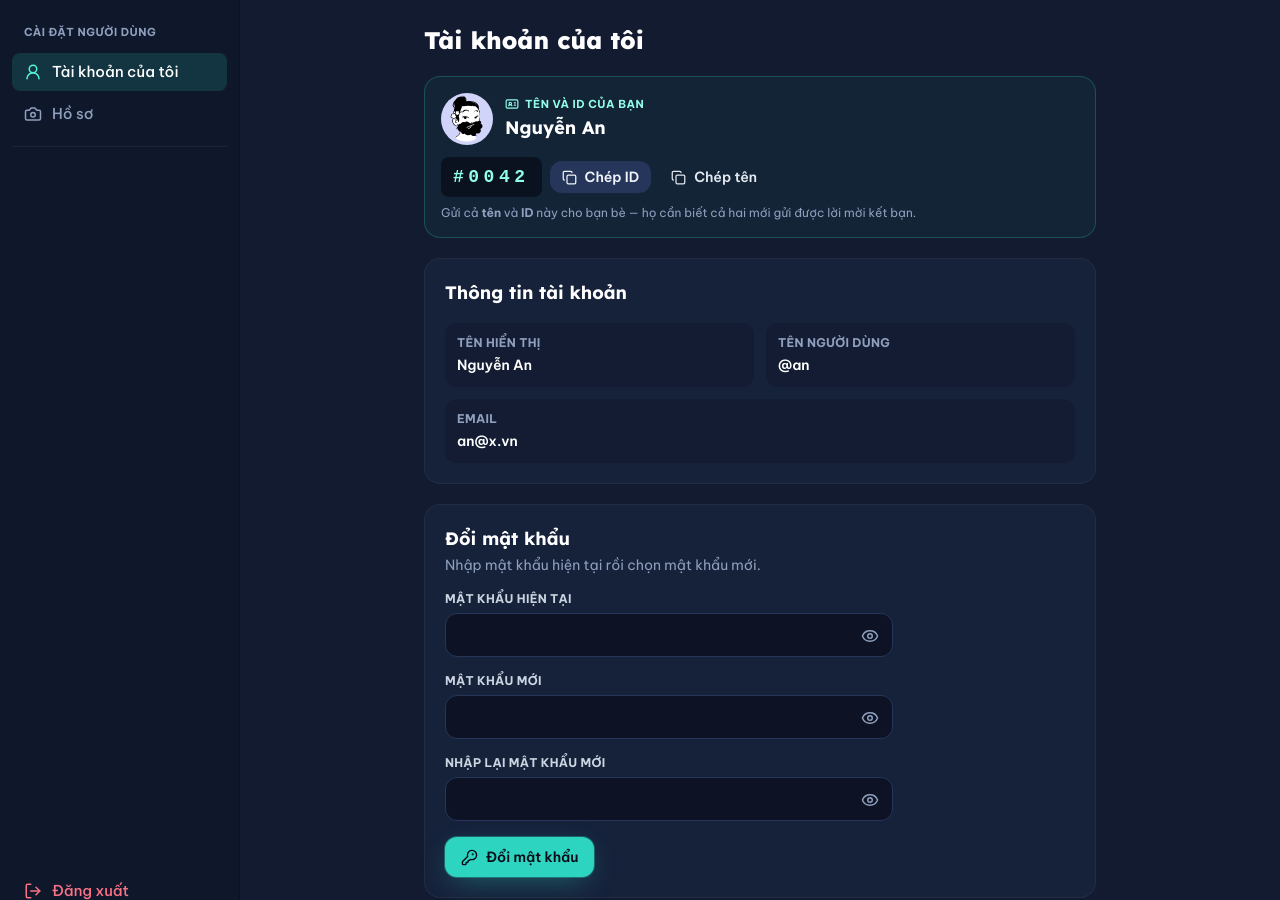
Test: Cài đặt → Tài khoản của tôi › đổi mật khẩu: báo lỗi khi sai / thiếu và KHÔNG gọi server
Type "123" into the password field labelled "Mật khẩu mới".
click(669, 717); type("123")  # box x1=445 y1=695 x2=893 y2=739
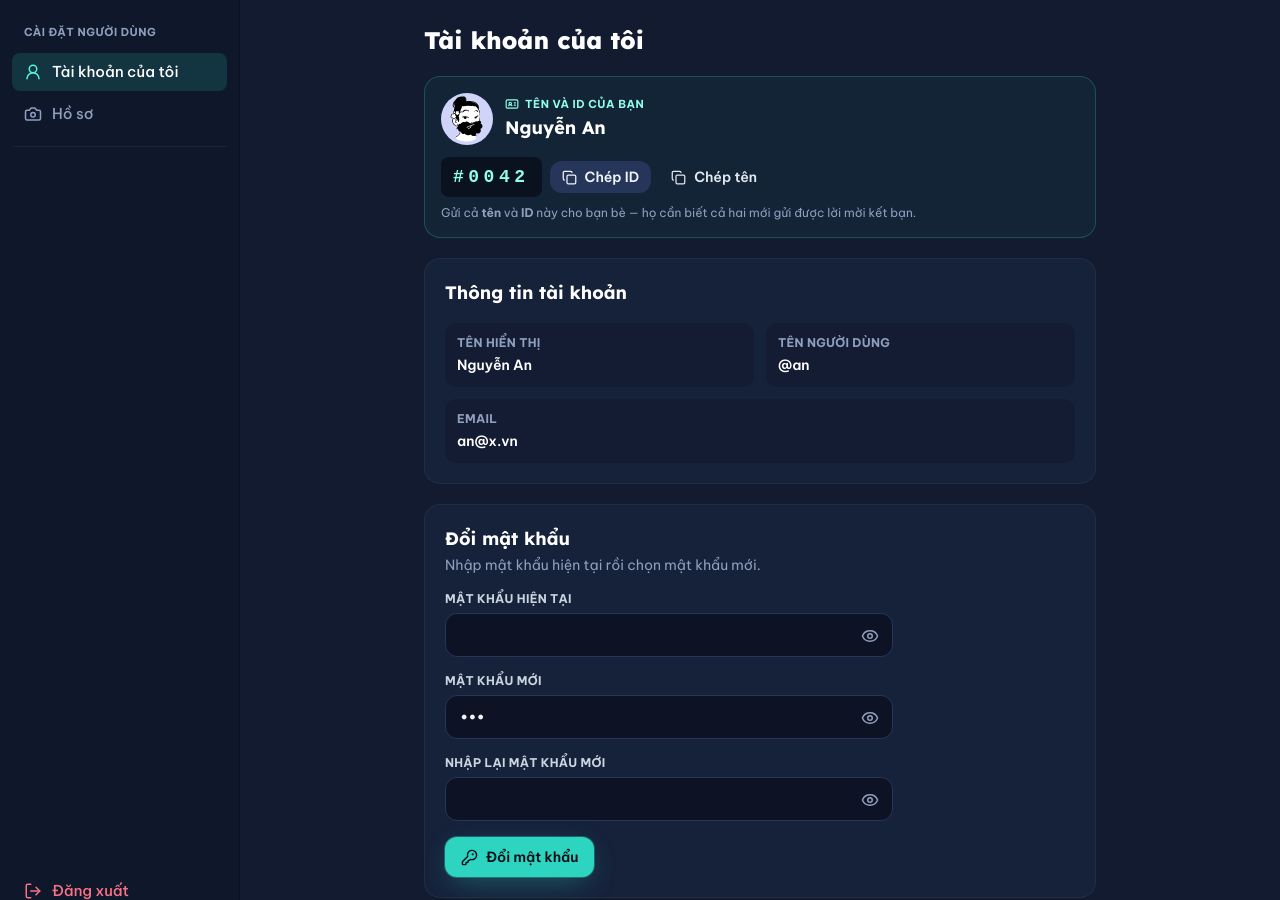
Type "khac" into the password field labelled "Nhập lại mật khẩu mới".
click(669, 799); type("khac")  # box x1=445 y1=777 x2=893 y2=821
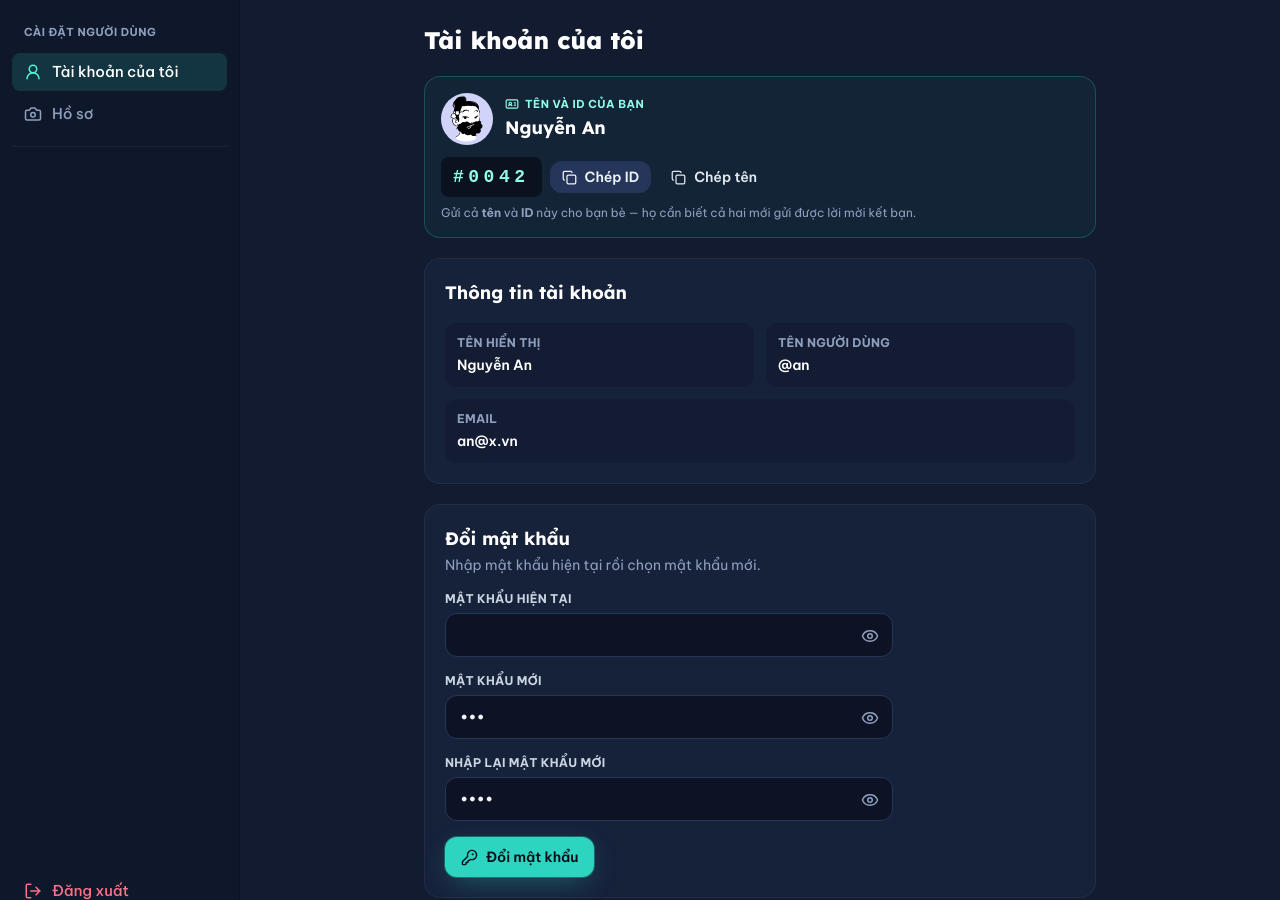
Click the button "Đổi mật khẩu".
click(520, 857)  # box x1=445 y1=837 x2=594 y2=877
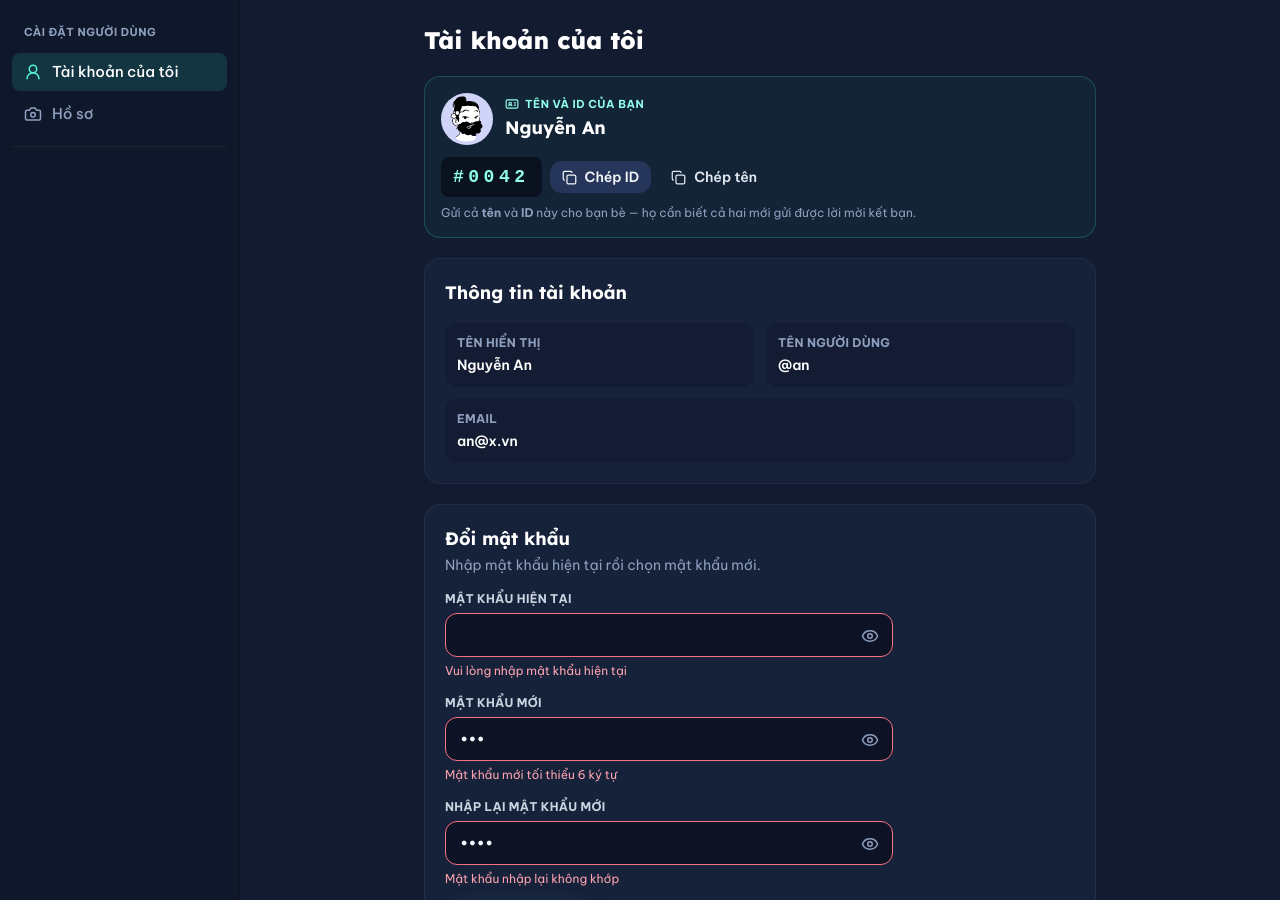
Result: the text "Vui lòng nhập mật khẩu hiện tại" is shown at x1=445 y1=663 x2=627 y2=678
Result: the text "Mật khẩu mới tối thiểu 6 ký tự" is shown at x1=445 y1=767 x2=617 y2=782
Result: the text "Mật khẩu nhập lại không khớp" is shown at x1=445 y1=871 x2=619 y2=886
